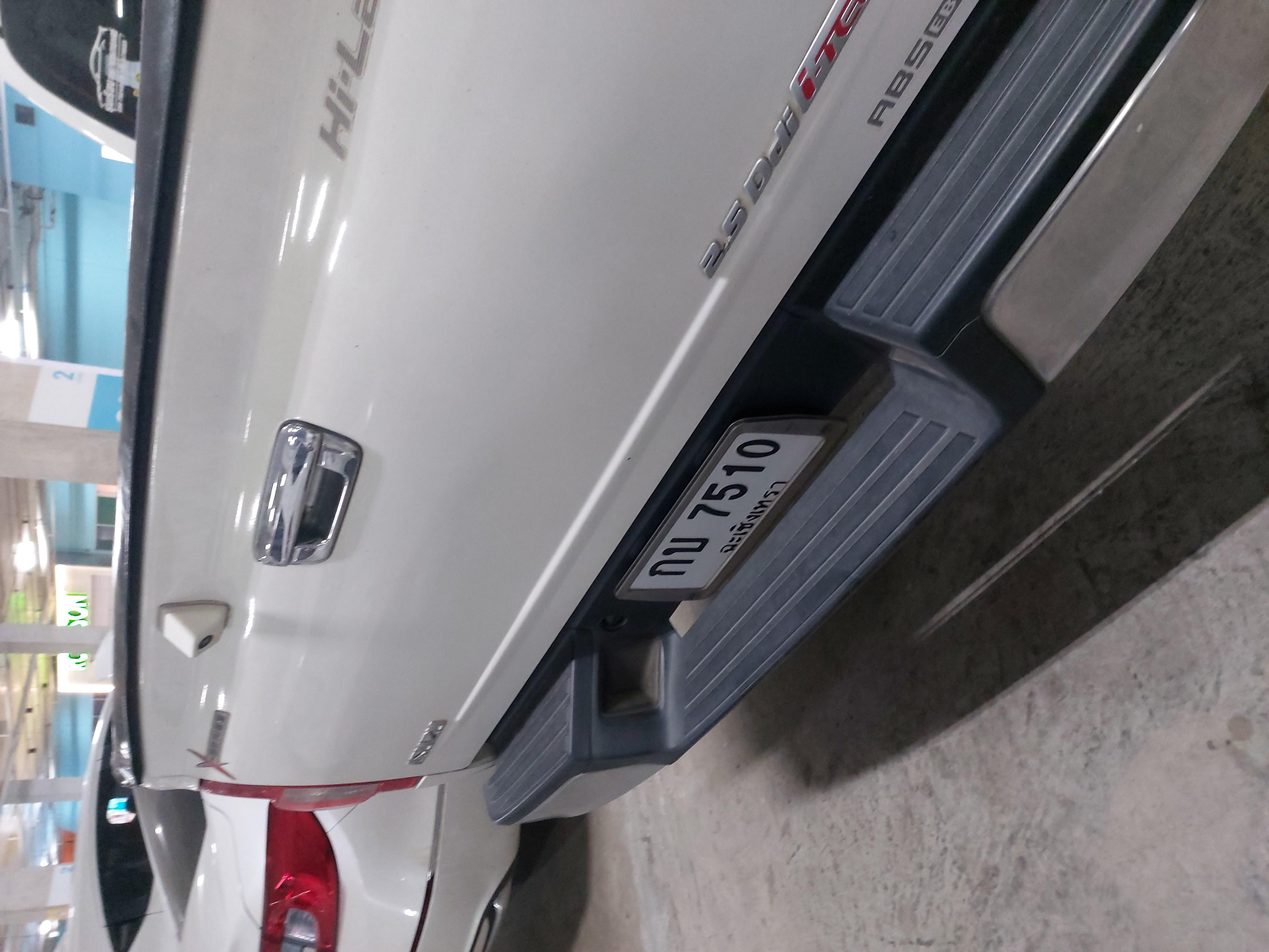license-plate: (482, 468, 693, 621)
